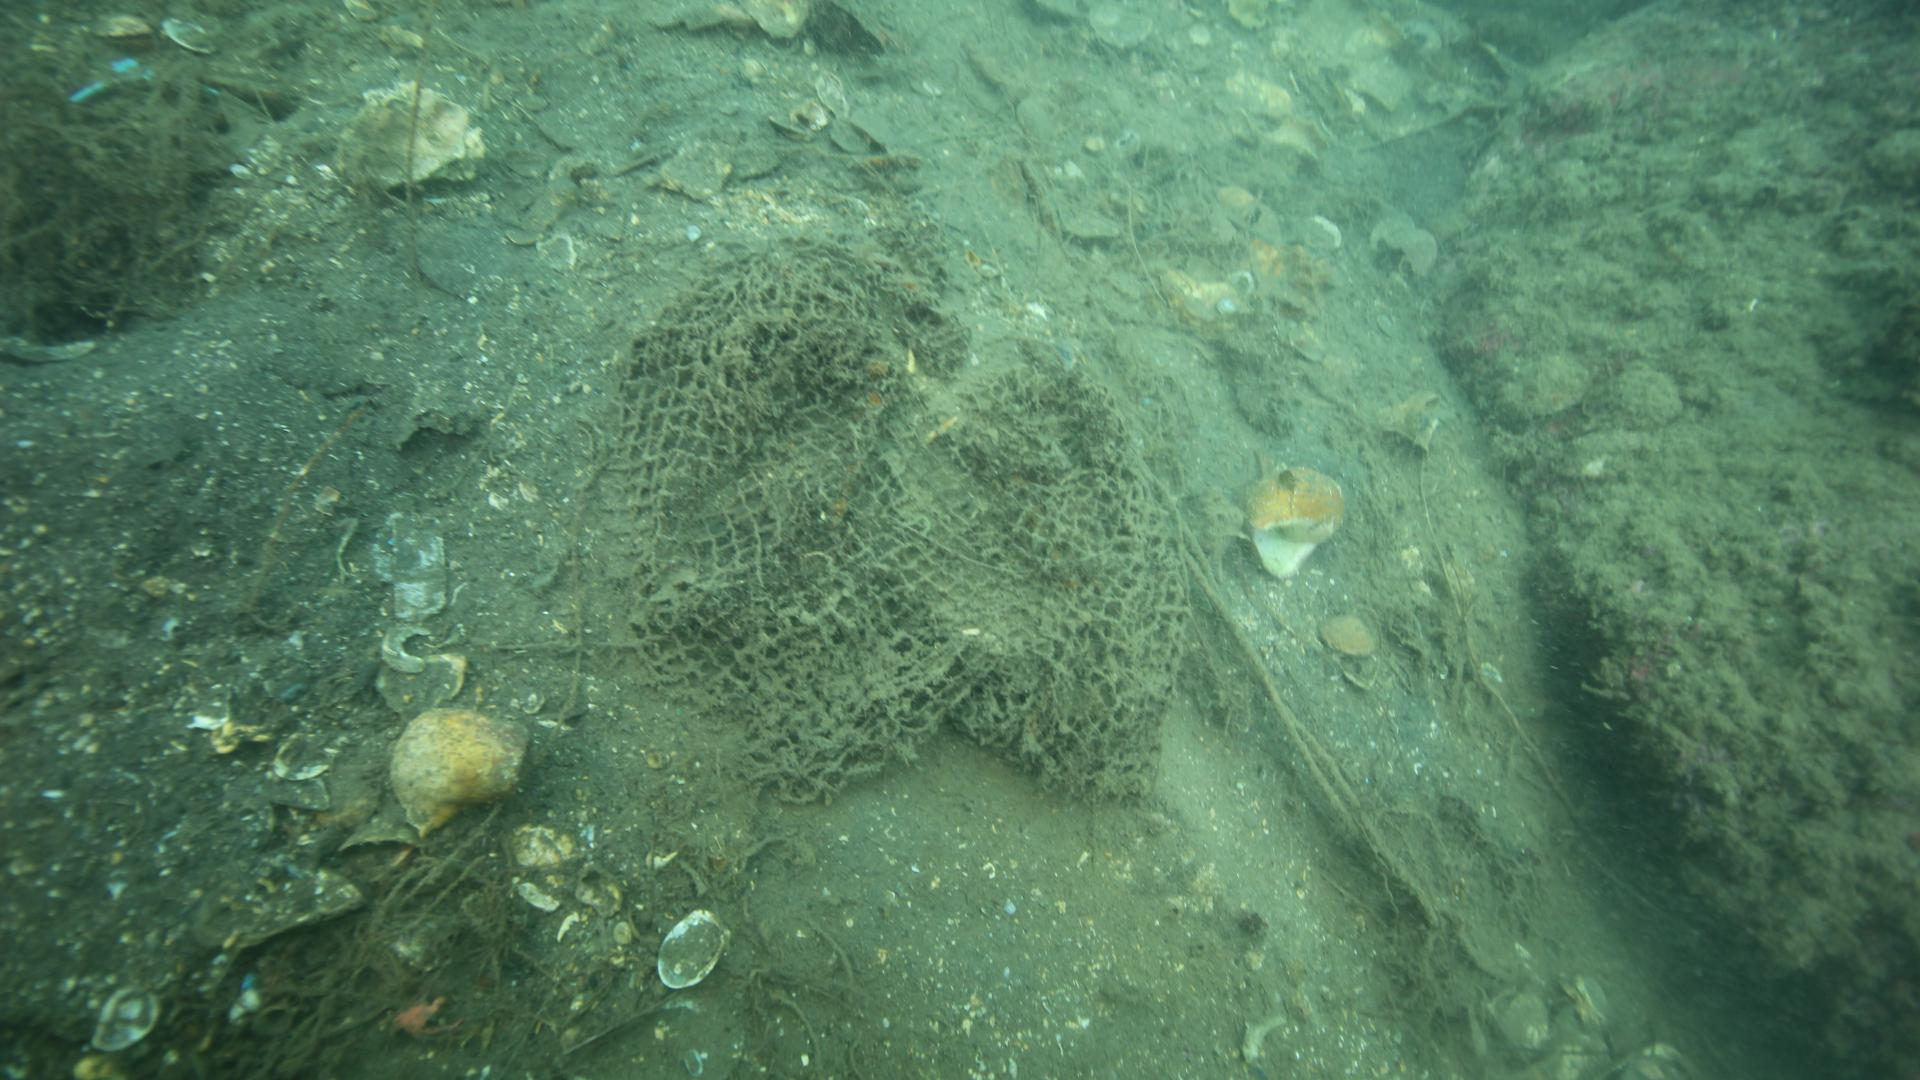fish net: (618, 251, 1192, 804)
